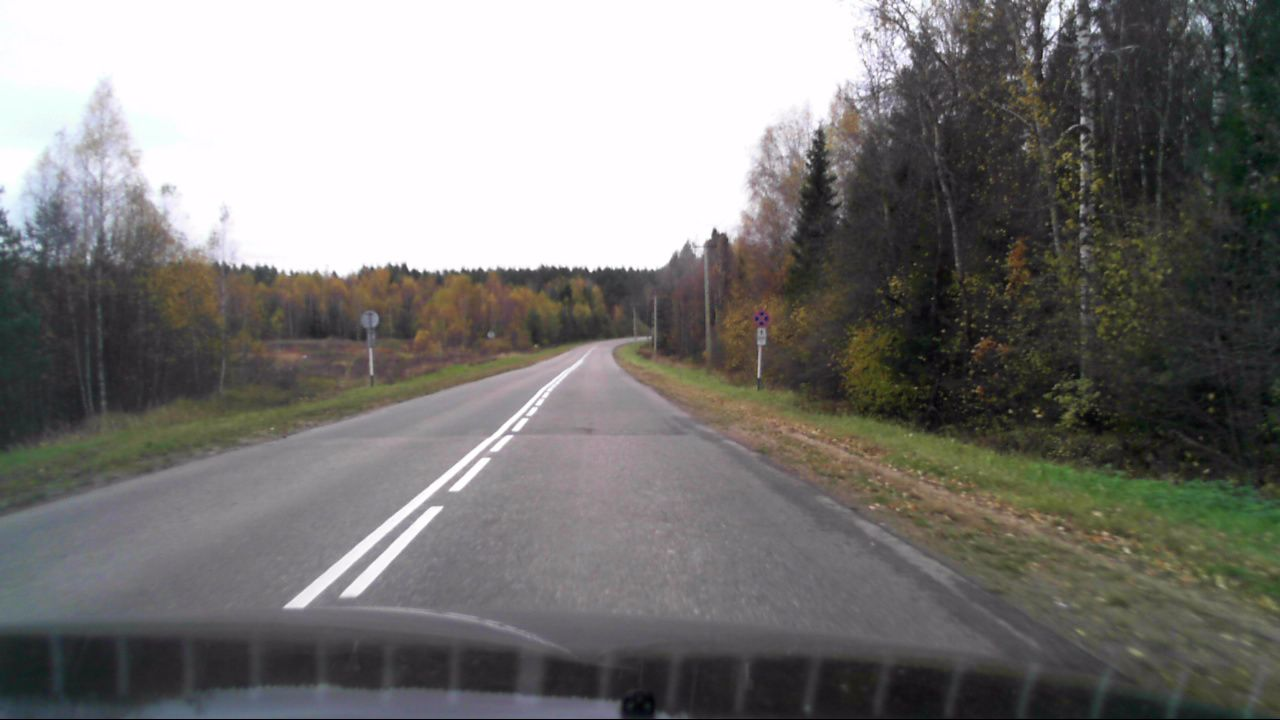No Parking: (752, 310, 770, 327)
